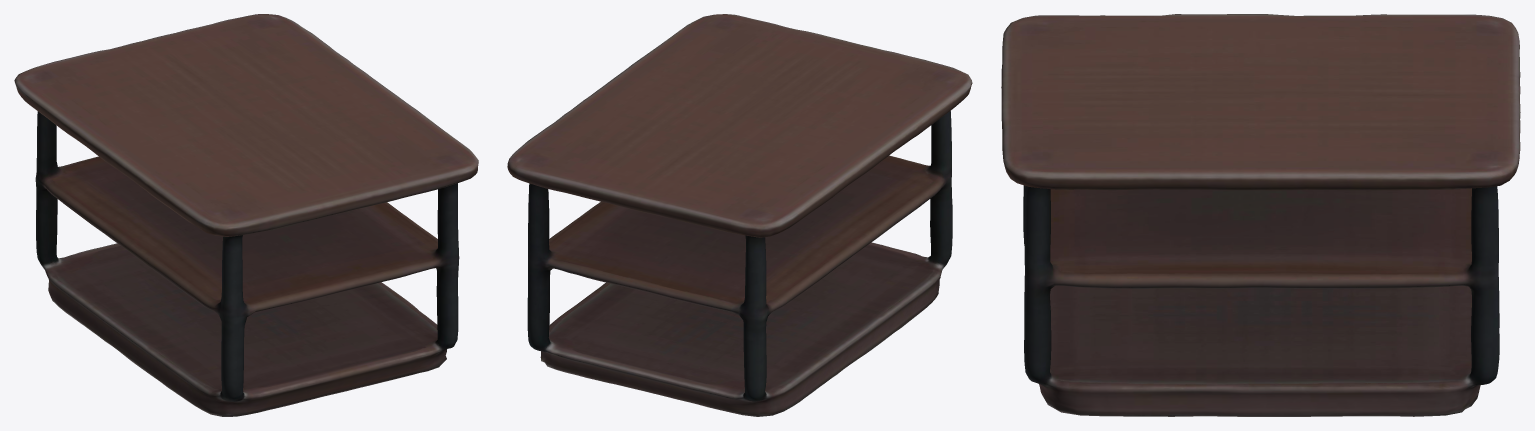
The model's file is 1db68969486a_small_cofee_table__.fbx.
The picture shows the model from 3 angles, left to right: view 1: azimuth 30°, elevation 25°; view 2: azimuth 150°, elevation 25°; view 3: azimuth 270°, elevation 25°; orthographic projection. The views are drawn at different scales.
Visible parts, largest first — view 1: mesh; view 2: mesh; view 3: mesh.
Boxes of the visible parts, x1,y1,x2,y2 form: mesh: (14,14,478,416); mesh: (507,14,972,416); mesh: (1001,14,1520,416).
Size of the model in its own units: 74.01 by 53.96 by 99.88.
